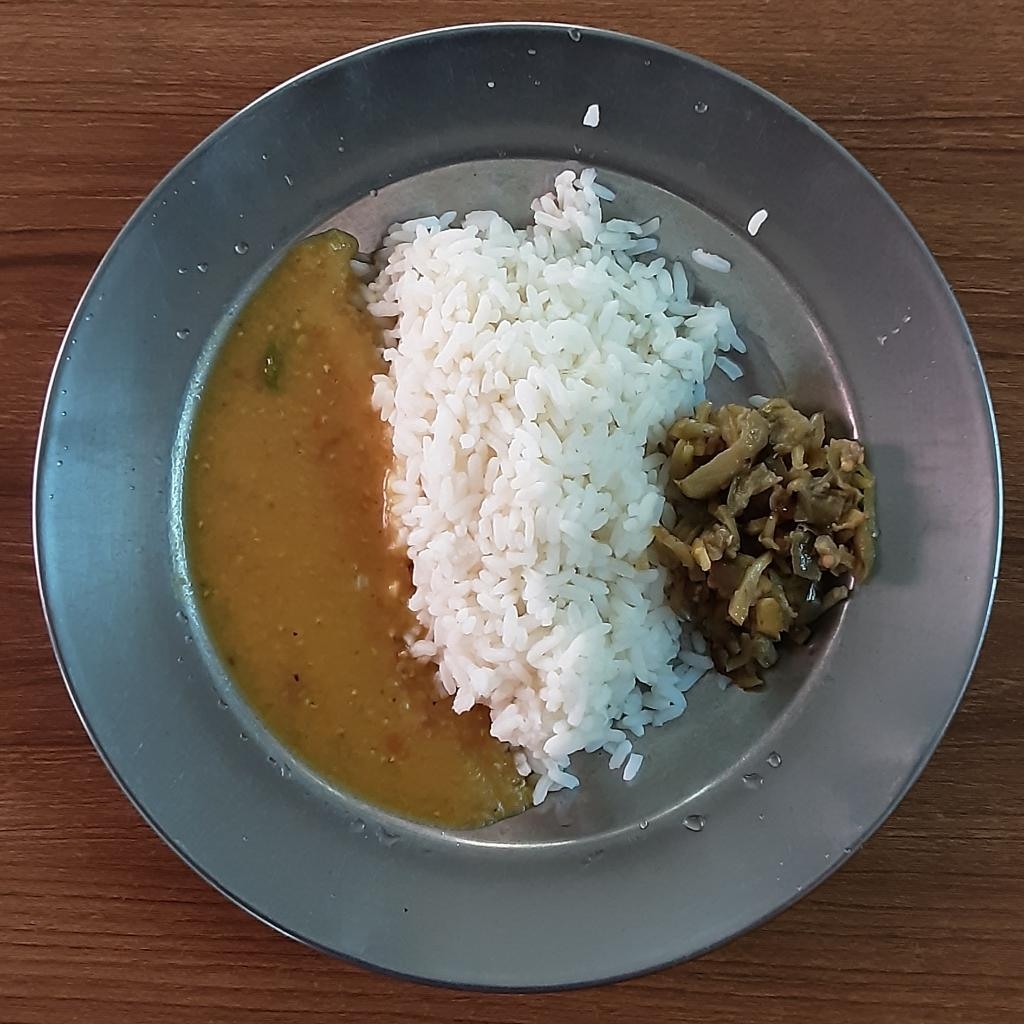daal: (179, 228, 520, 832)
rice: (356, 166, 751, 811)
vegetable: (662, 398, 880, 692)
